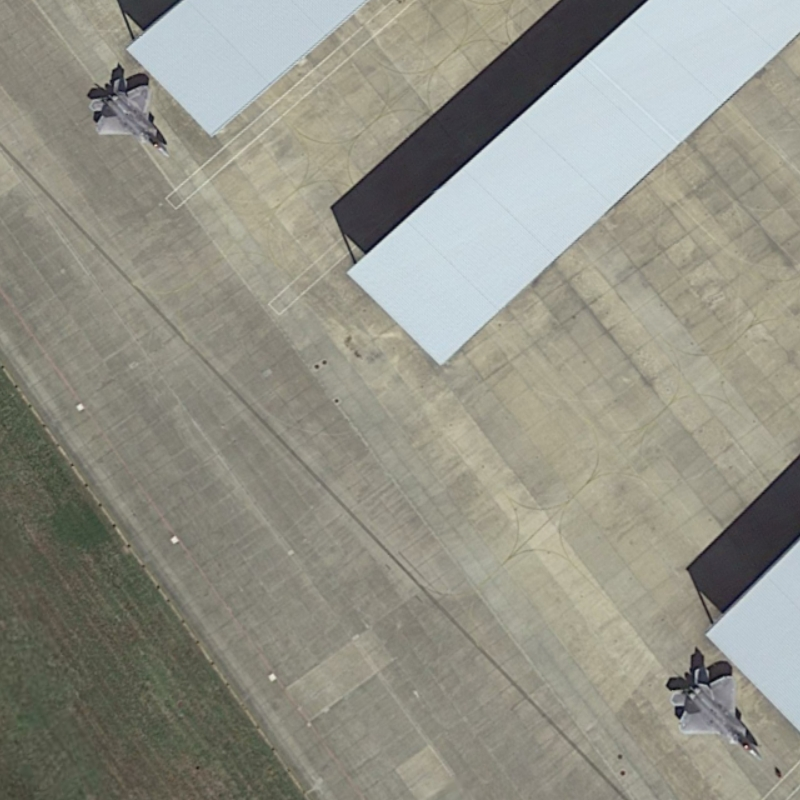A15: (661, 659, 769, 769), (83, 70, 176, 161)
